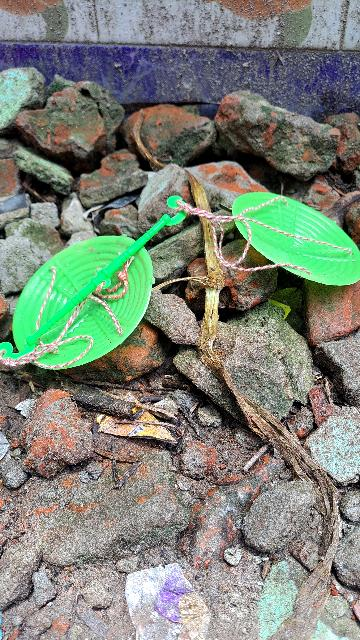hardplastic: (11, 224, 152, 367), (226, 167, 360, 289)
